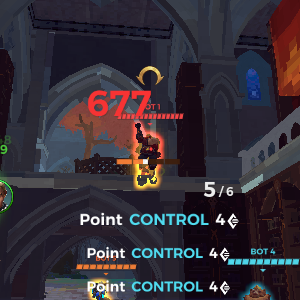model: (134, 123, 167, 164), (83, 278, 116, 300)
